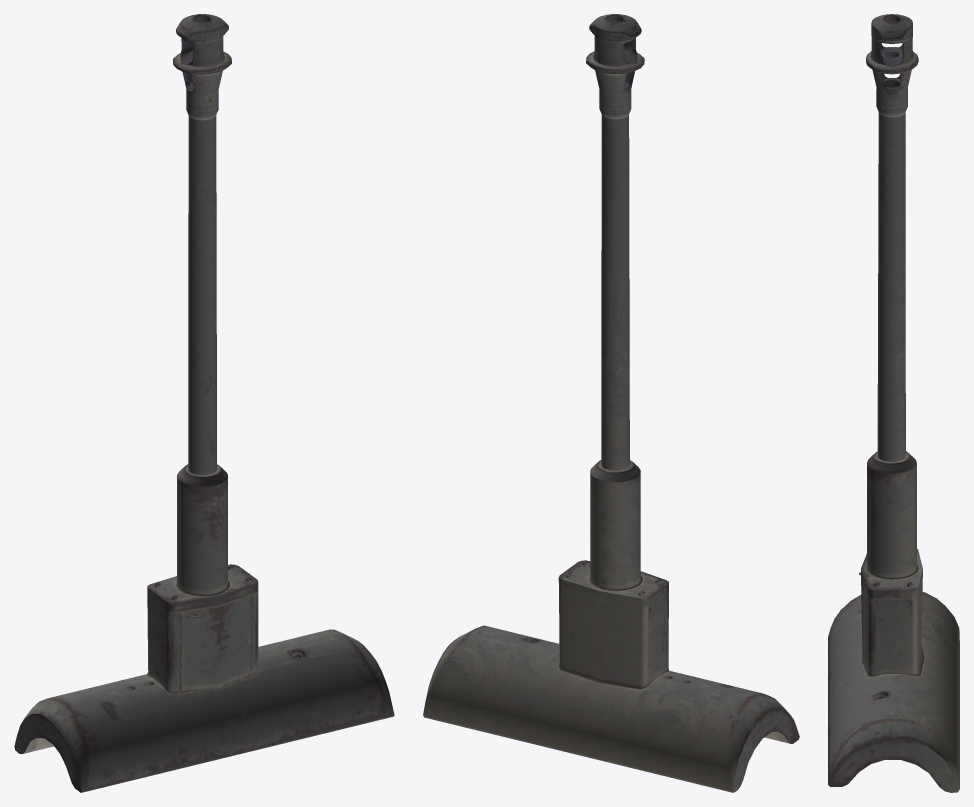
The model's file is Gun_03.glb.
3 renders of one model, left to right at view 1: azimuth 30°, elevation 25°; view 2: azimuth 150°, elevation 25°; view 3: azimuth 270°, elevation 25°, orthographic. The views are drawn at different scales.
Visible parts, largest first — view 1: set_0_group_0; view 2: set_0_group_0; view 3: set_0_group_0.
Part boxes in pixels (left/top/right/bottom): set_0_group_0: left=14, top=14, right=394, bottom=792; set_0_group_0: left=423, top=14, right=799, bottom=792; set_0_group_0: left=828, top=14, right=959, bottom=792.
Size of the model in its own units: 1.57 by 3.46 by 0.5914.
1 material, 1 textured.
